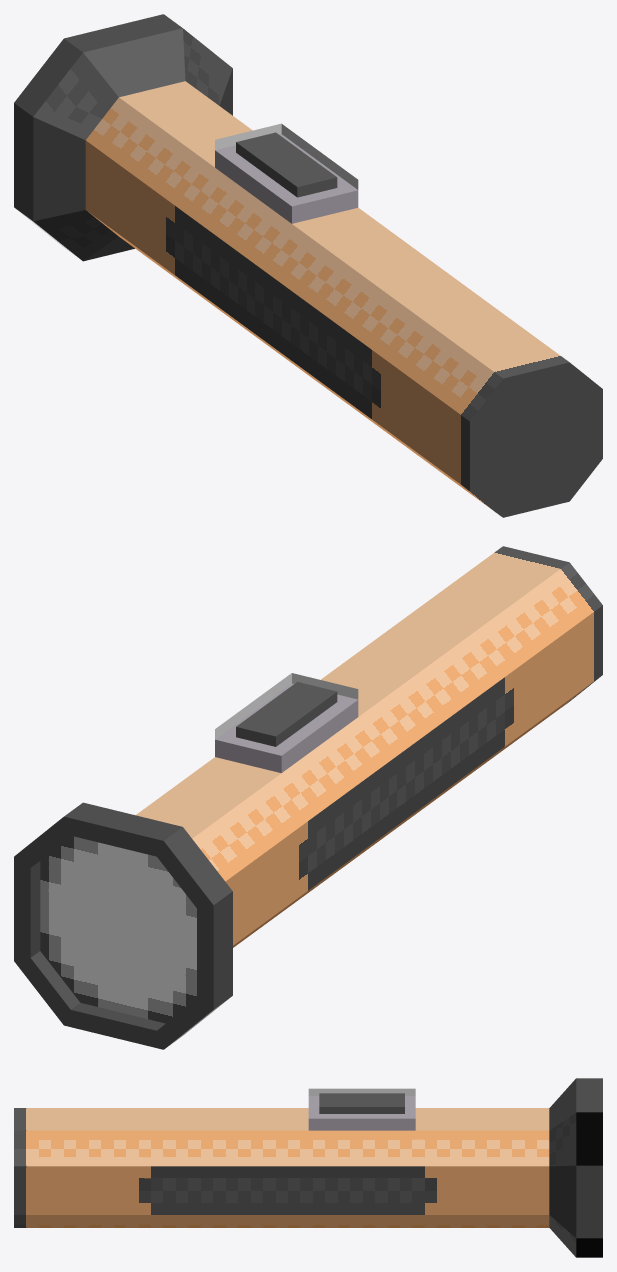
File: flashlight_1.glb
3 renders of one model, top to bottom at view 1: azimuth 30°, elevation 25°; view 2: azimuth 150°, elevation 25°; view 3: azimuth 270°, elevation 25°, orthographic. The views are drawn at different scales.
Visible parts, largest first — view 1: flashlight_1, flashlight_1-convcol; view 2: flashlight_1, flashlight_1-convcol; view 3: flashlight_1, flashlight_1-convcol.
Boxes of the visible parts, left/top/right/bottom form: flashlight_1: left=14, top=14, right=602, bottom=517; flashlight_1-convcol: left=215, top=123, right=358, bottom=189; flashlight_1: left=14, top=546, right=602, bottom=1049; flashlight_1-convcol: left=215, top=673, right=358, bottom=739; flashlight_1: left=14, top=1078, right=602, bottom=1257; flashlight_1-convcol: left=308, top=1088, right=415, bottom=1095.
Bounding box in the file's own units: 0.06 × 0.06 × 0.22.
1 material, 1 textured.
